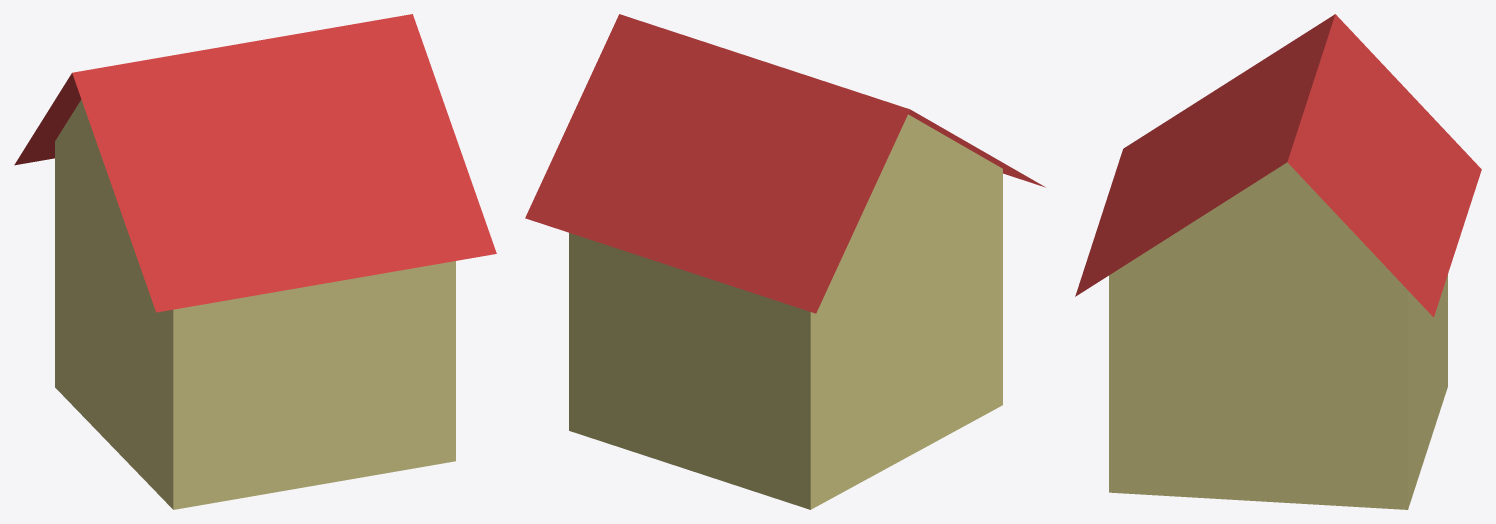
The picture shows the model from 3 angles, left to right: view 1: azimuth 30°, elevation 25°; view 2: azimuth 150°, elevation 25°; view 3: azimuth 270°, elevation 25°; orthographic projection. The views are drawn at different scales.
Size of the model in its own units: 13.25 by 13.47 by 12.92.
